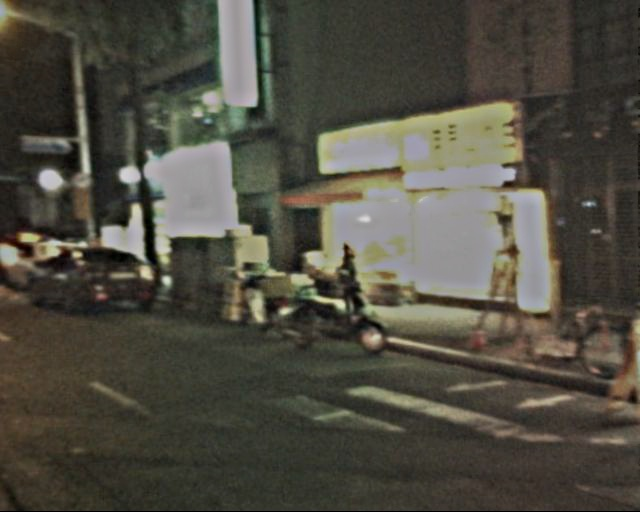person: (322, 238, 364, 321)
